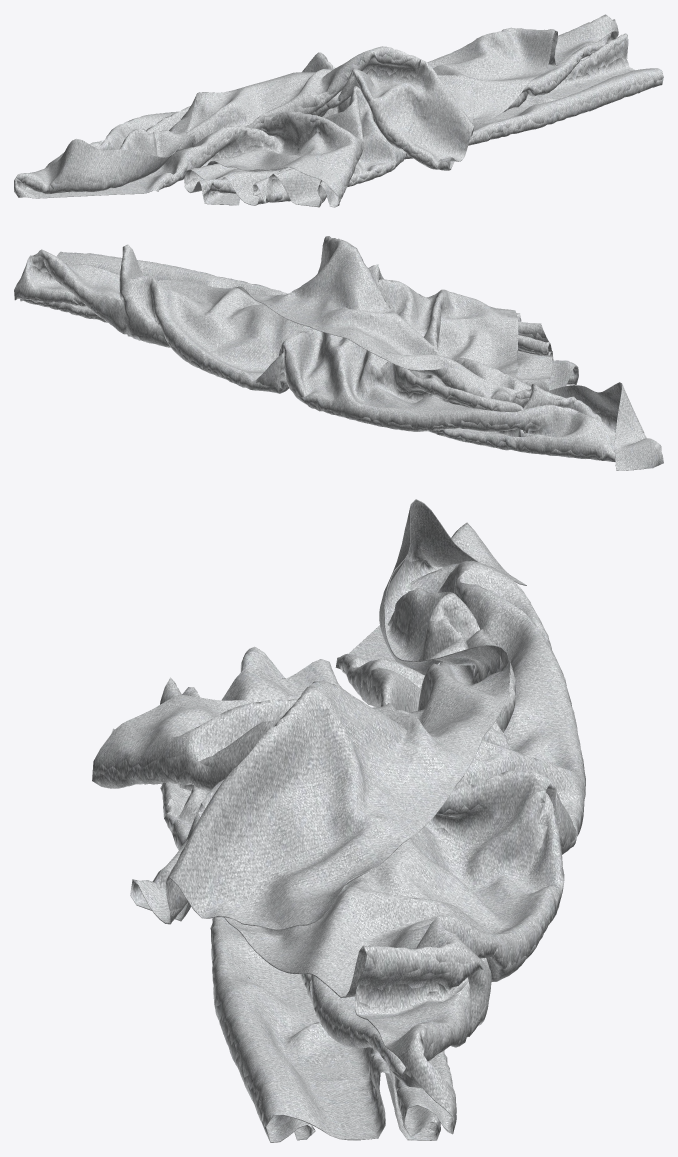
File: bath_towel.glb
3 views of the same model, one above another, from view 1: azimuth 30°, elevation 25°; view 2: azimuth 150°, elevation 25°; view 3: azimuth 270°, elevation 25° (orthographic). The views are drawn at different scales.
Parts seen in each view (by area): view 1: Towel_FABRIC 1_FRONT_3601_0.002, Towel_FABRIC 1_FRONT_3601_0.003; view 2: Towel_FABRIC 1_FRONT_3601_0.003, Towel_FABRIC 1_FRONT_3601_0.002; view 3: Towel_FABRIC 1_FRONT_3601_0.002, Towel_FABRIC 1_FRONT_3601_0.003.
Part boxes in pixels (x1,y1,x2,y2): Towel_FABRIC 1_FRONT_3601_0.002: (14,30,663,207); Towel_FABRIC 1_FRONT_3601_0.003: (51,14,618,206); Towel_FABRIC 1_FRONT_3601_0.003: (14,244,621,461); Towel_FABRIC 1_FRONT_3601_0.002: (20,236,663,470); Towel_FABRIC 1_FRONT_3601_0.002: (92,499,558,1142); Towel_FABRIC 1_FRONT_3601_0.003: (111,504,585,1141).
Bounding box in the file's own units: 27.79 × 4.28 × 9.91.
1 material, 1 textured.
